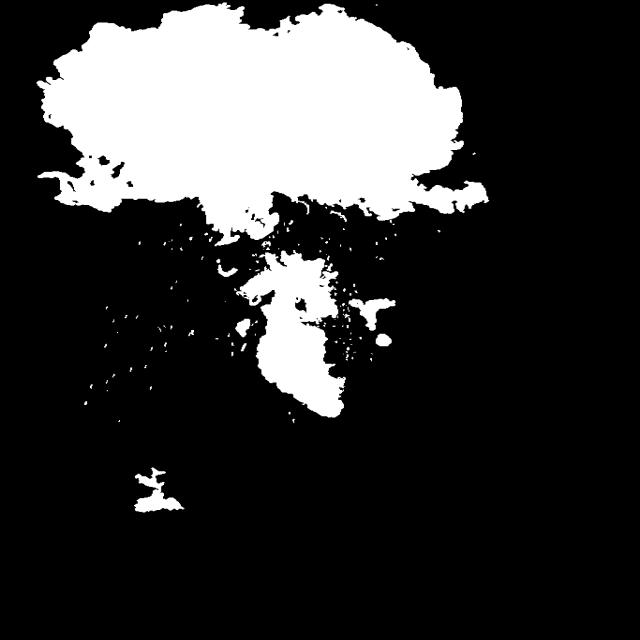fire: (2, 11, 640, 533)
